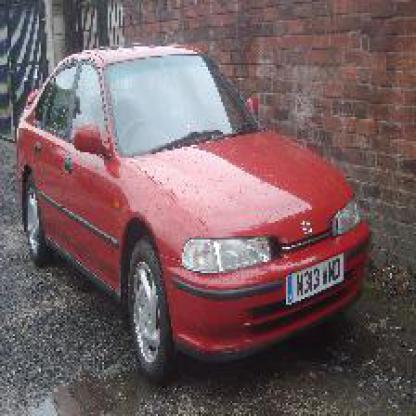not_emergency: (11, 35, 386, 401)
